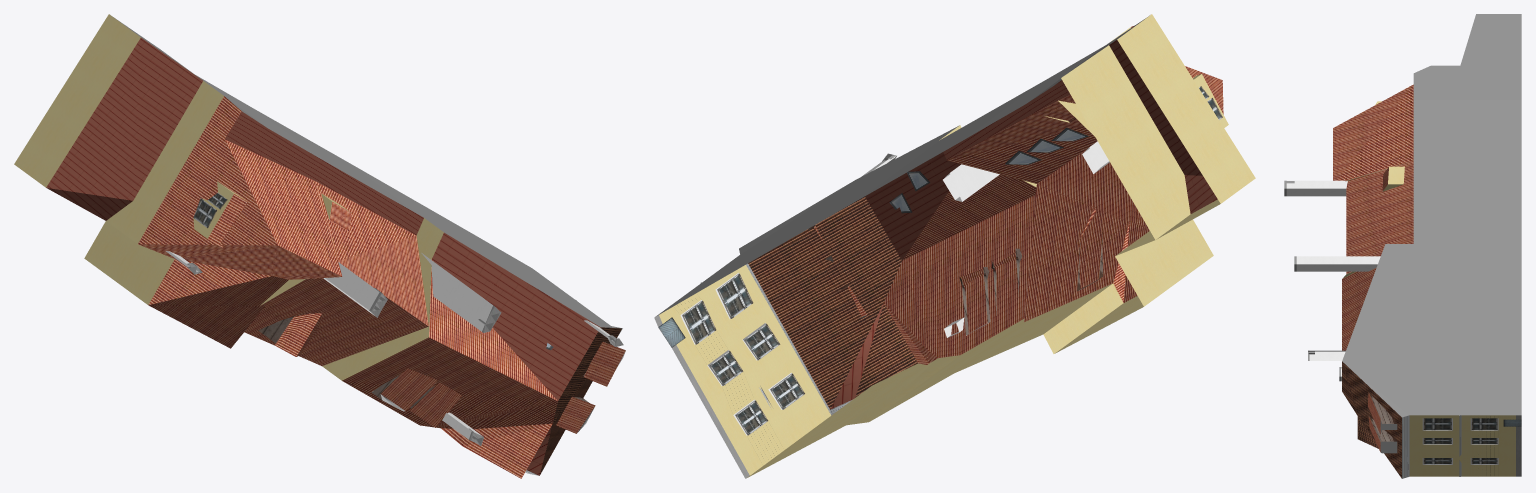
File: Lai_37_1-origo.obj
The picture shows the model from 3 angles, left to right: view 1: azimuth 30°, elevation 25°; view 2: azimuth 150°, elevation 25°; view 3: azimuth 270°, elevation 25°; orthographic projection. The views are drawn at different scales.
Visible parts, largest first — view 1: Lai_37_1; view 2: Lai_37_1; view 3: Lai_37_1.
Part boxes in pixels (x1,y1,x2,y2): Lai_37_1: [14, 14, 625, 478]; Lai_37_1: [654, 14, 1255, 478]; Lai_37_1: [1284, 14, 1521, 478].
Bounding box in the file's own units: 34.56 × 30.5 × 19.04.
